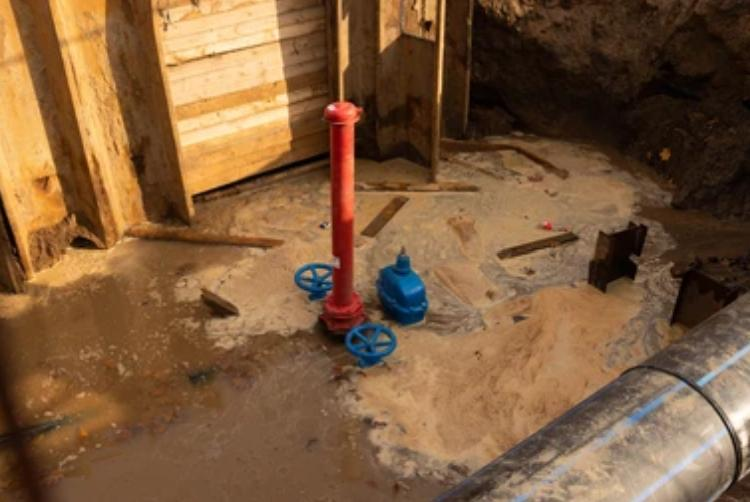water accumulation: (0, 192, 462, 502)
